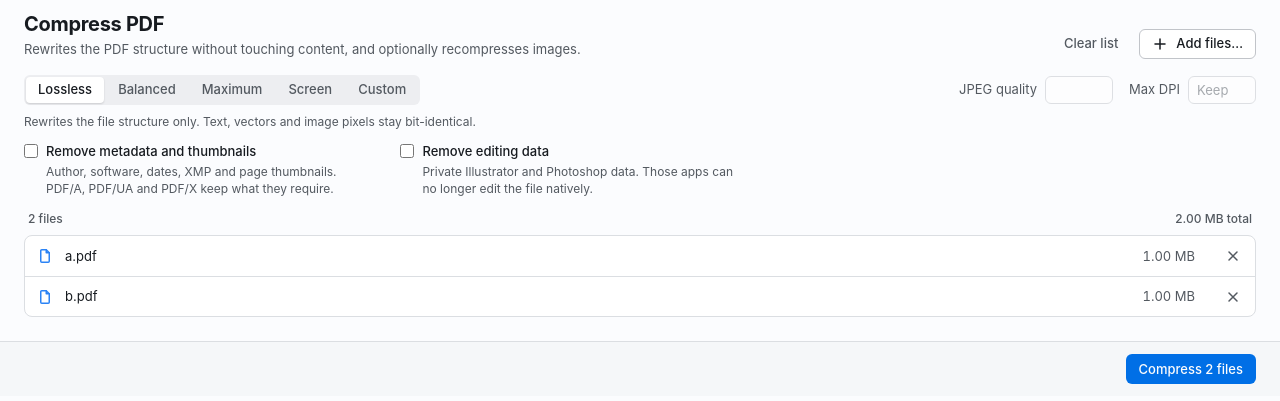
it: PdfCompress intake › removes files from the list and from the registry
The width and height of the screenshot is (1280, 401).
Click the button named "Remove a.pdf".
click(1233, 256)  # box x1=1219 y1=242 x2=1247 y2=270
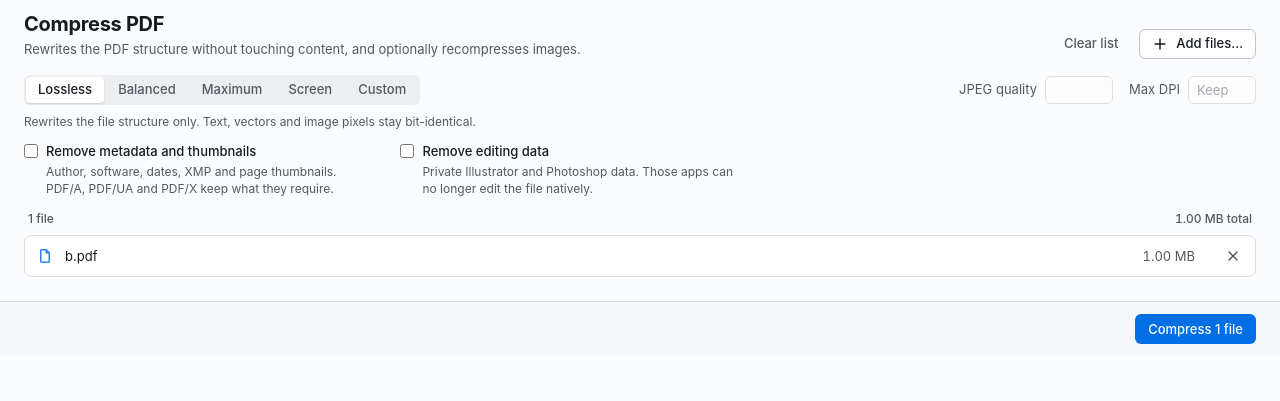
expect the text "a.pdf" is gone: met
Click the button "Clear list".
click(1091, 44)  # box x1=1051 y1=29 x2=1131 y2=59
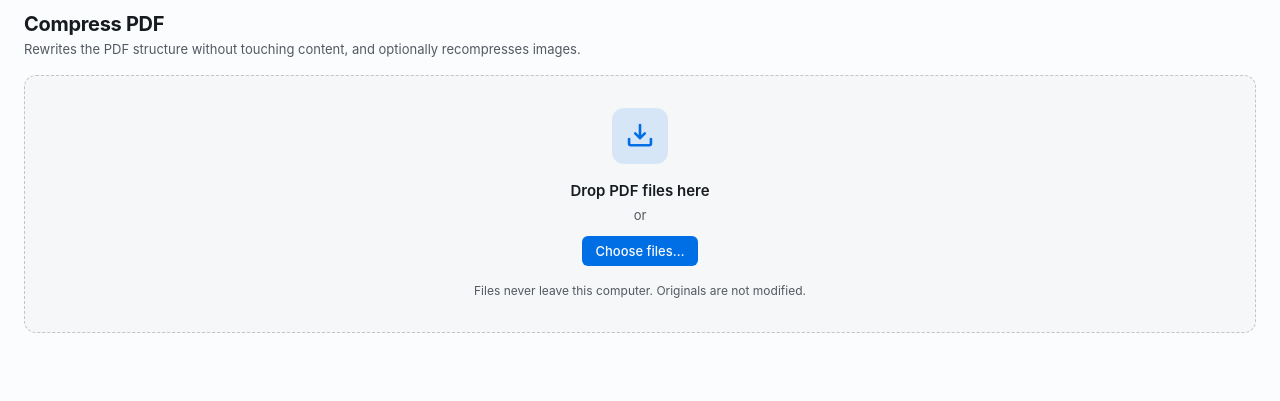
expect the text "Drop PDF files here" is shown: met, box x1=570 y1=180 x2=710 y2=202
